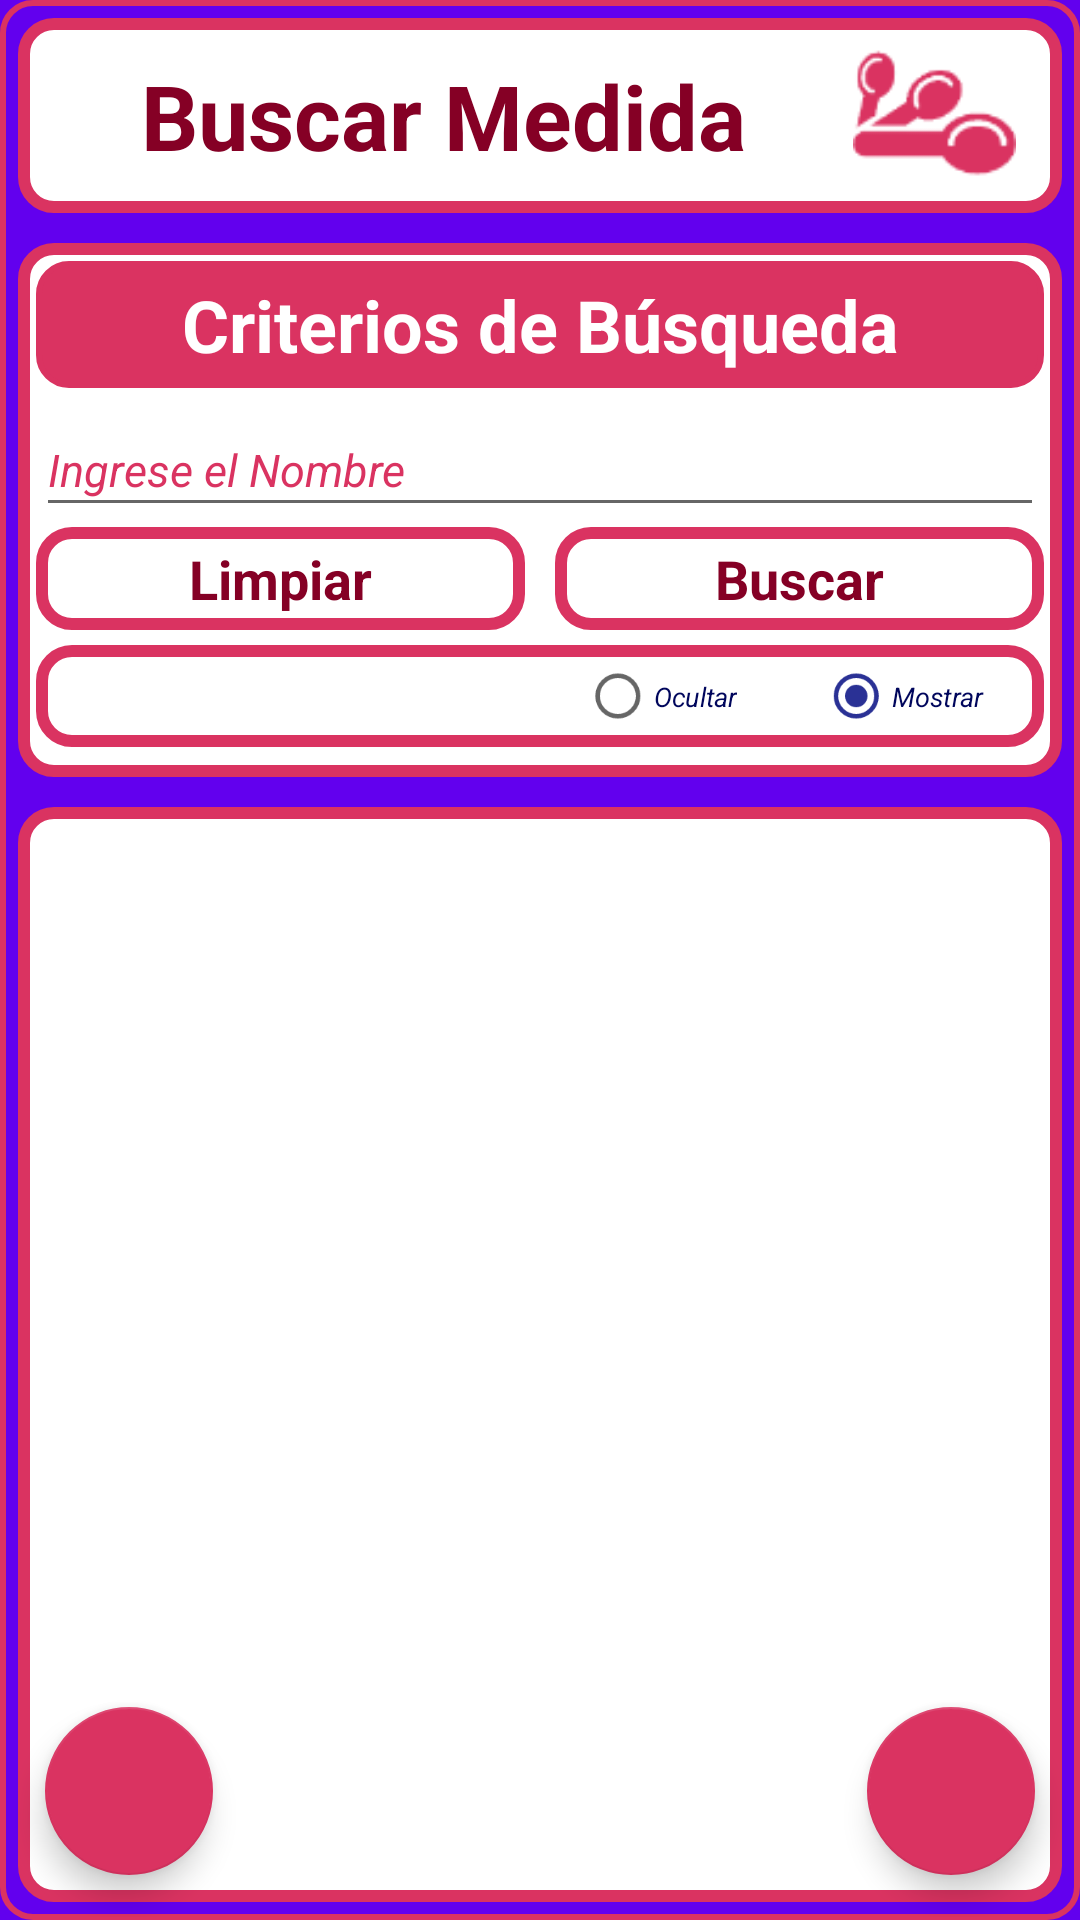

Where icons sit on this 1080×1920 app screen, as {"x1": x1, "y1": y1, "x2": x2, "y2": y2}:
medida sf: {"x1": 853, "y1": 51, "x2": 1016, "y2": 175}
